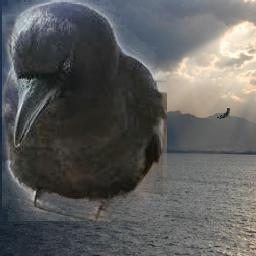Crow: (3, 0, 168, 221)
Swallow: (214, 107, 230, 119)
